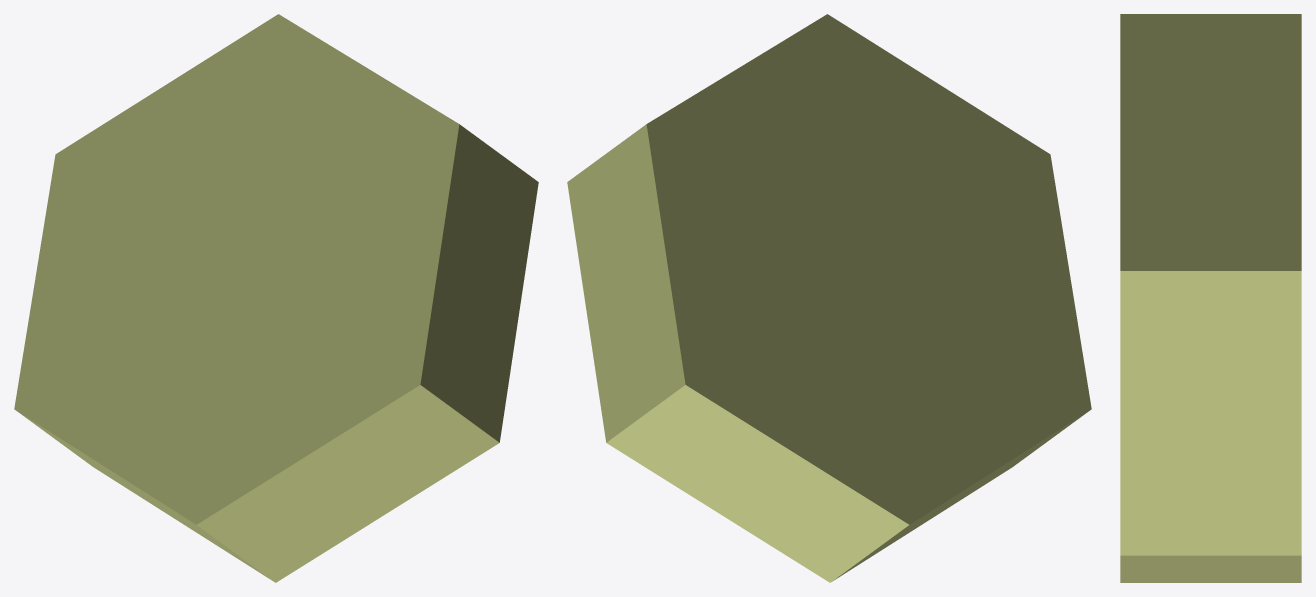
3 views of the same model, side by side, from view 1: azimuth 30°, elevation 25°; view 2: azimuth 150°, elevation 25°; view 3: azimuth 270°, elevation 25° (orthographic). The views are drawn at different scales.
Parts seen in each view (by area): view 1: 0_0_3_2_0_1_1_1_2; view 2: 0_0_3_2_0_1_1_1_2; view 3: 0_0_3_2_0_1_1_1_2.
Part boxes in pixels (left/top/right/bottom): 0_0_3_2_0_1_1_1_2: left=14, top=14, right=538, bottom=582; 0_0_3_2_0_1_1_1_2: left=567, top=14, right=1091, bottom=582; 0_0_3_2_0_1_1_1_2: left=1120, top=14, right=1301, bottom=582.
Bounding box in the file's own units: 29.16 × 30.72 × 9.
